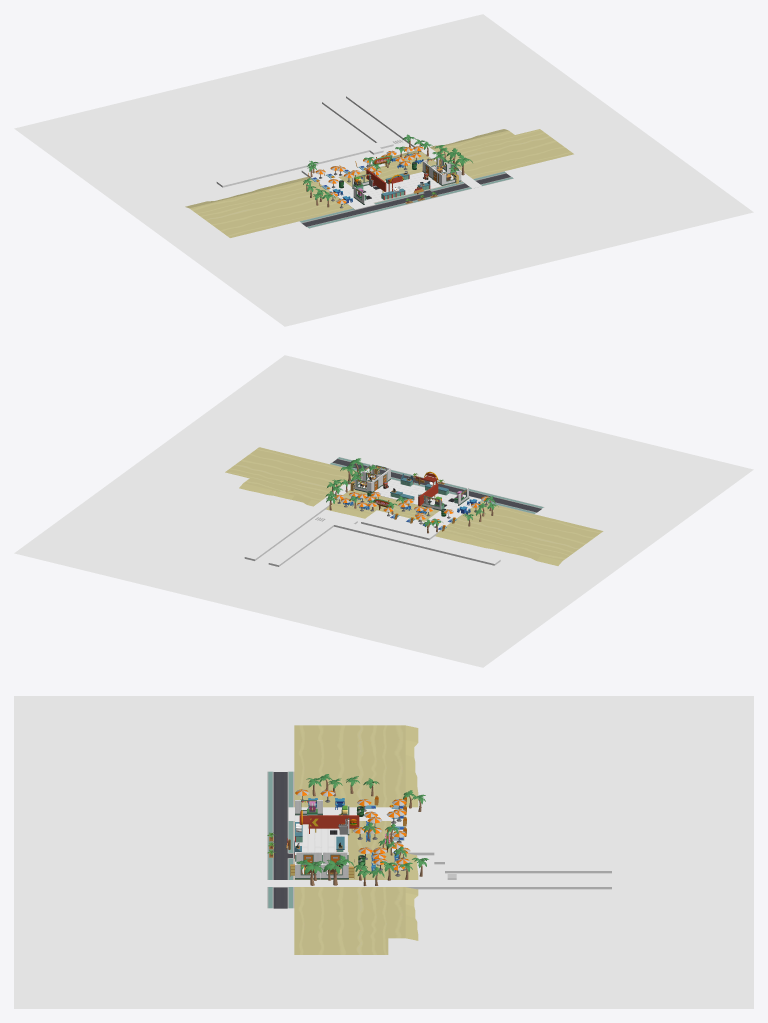
Rendered from stageevent01_cocos.fbx.
3 views of the same model, one above another, from view 1: azimuth 30°, elevation 25°; view 2: azimuth 150°, elevation 25°; view 3: azimuth 270°, elevation 25° (orthographic). The views are drawn at different scales.
Visible parts, largest first — view 1: Event_Outfloor_3, Event_Outfloor_1, Event_Outfloor1, Event_Outfloor2, Event_Outfloor, SM_Env_Sidewalk_011, EventCarroad, Event_Outfloor_2, Event_Outfloor_se_aline1, floor3x32, SM_Env_Sidewalk_013, SM_Env_Sidewalk_015 (+3 smaller); view 2: Event_Outfloor_3, Event_Outfloor_1, Event_Outfloor1, Event_Outfloor2, Event_Outfloor, Event_Outfloor_se_aline1, SM_Env_Sidewalk_011, Event_Outfloor_2, Event_Outfloor_se_aline2, EventCarroad, floor3x32, SM_Env_Sidewalk_013 (+3 smaller); view 3: Event_Outfloor_3, Event_Outfloor_1, Event_Outfloor1, Event_Outfloor2, Event_Outfloor, Event_Outfloor_se_aline1, EventCarroad, Event_Outfloor_2, SM_Env_Sidewalk_013, SM_Env_Sidewalk_011, Event_Outfloor_se_aline2, SM_Env_Sidewalk_015 (+7 smaller).
Part boxes in pixels (bbox=[...]): Event_Outfloor_3: bbox=[14, 14, 753, 326]; Event_Outfloor_1: bbox=[317, 184, 550, 255]; Event_Outfloor1: bbox=[196, 186, 339, 237]; Event_Outfloor2: bbox=[441, 129, 573, 178]; Event_Outfloor: bbox=[309, 178, 521, 234]; SM_Env_Sidewalk_011: bbox=[216, 146, 366, 187]; EventCarroad: bbox=[299, 192, 428, 228]; Event_Outfloor_2: bbox=[307, 156, 461, 211]; Event_Outfloor_se_aline1: bbox=[185, 180, 305, 212]; floor3x32: bbox=[346, 169, 460, 204]; SM_Env_Sidewalk_013: bbox=[346, 94, 420, 144]; SM_Env_Sidewalk_015: bbox=[322, 99, 386, 142]; Event_Outfloor_3: bbox=[14, 355, 753, 667]; Event_Outfloor_1: bbox=[347, 429, 581, 500]; Event_Outfloor1: bbox=[459, 505, 603, 555]; Event_Outfloor2: bbox=[225, 447, 358, 496]; Event_Outfloor: bbox=[340, 451, 551, 506]; Event_Outfloor_se_aline1: bbox=[448, 529, 568, 565]; SM_Env_Sidewalk_011: bbox=[351, 524, 500, 565]; Event_Outfloor_2: bbox=[338, 489, 489, 529]; Event_Outfloor_se_aline2: bbox=[239, 478, 325, 506]; EventCarroad: bbox=[415, 480, 543, 514]; floor3x32: bbox=[358, 475, 464, 509]; SM_Env_Sidewalk_013: bbox=[244, 509, 319, 560]; Event_Outfloor_3: bbox=[14, 696, 753, 1008]; Event_Outfloor_1: bbox=[165, 771, 245, 908]; Event_Outfloor1: bbox=[294, 725, 388, 798]; Event_Outfloor2: bbox=[294, 887, 388, 954]; Event_Outfloor: bbox=[245, 771, 267, 908]; Event_Outfloor_se_aline1: bbox=[388, 725, 418, 801]; EventCarroad: bbox=[267, 771, 294, 851]; Event_Outfloor_2: bbox=[294, 799, 387, 879]; SM_Env_Sidewalk_013: bbox=[434, 880, 611, 889]; SM_Env_Sidewalk_011: bbox=[445, 757, 461, 852]; Event_Outfloor_se_aline2: bbox=[388, 887, 418, 940]; SM_Env_Sidewalk_015: bbox=[461, 864, 611, 873].
Bounding box in the file's own units: 13733 × 849 × 13733.
14 materials, 7 textured.
